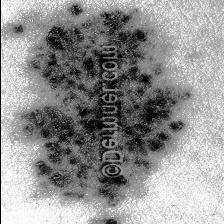Potentially Malignant Skin Tumors: (36, 20, 96, 188), (122, 28, 173, 164)
